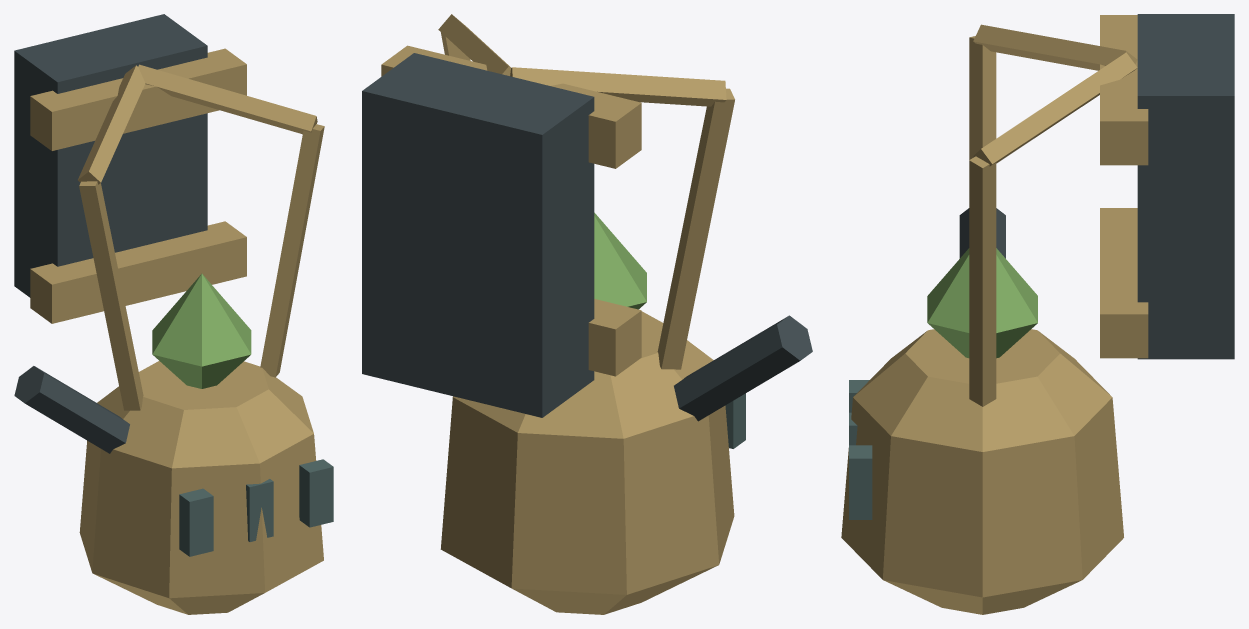
The model's file is Equip_Censer.fbx.
The picture shows the model from 3 angles, left to right: view 1: azimuth 30°, elevation 25°; view 2: azimuth 150°, elevation 25°; view 3: azimuth 270°, elevation 25°; orthographic projection. The views are drawn at different scales.
Visible parts, largest first — view 1: Equip_Censer; view 2: Equip_Censer; view 3: Equip_Censer.
Part boxes in pixels (left/top/right/bottom): Equip_Censer: left=14, top=14, right=333, bottom=614; Equip_Censer: left=362, top=14, right=812, bottom=614; Equip_Censer: left=841, top=14, right=1234, bottom=614.
Size of the model in its own units: 0.2034 by 0.3069 by 0.203.
